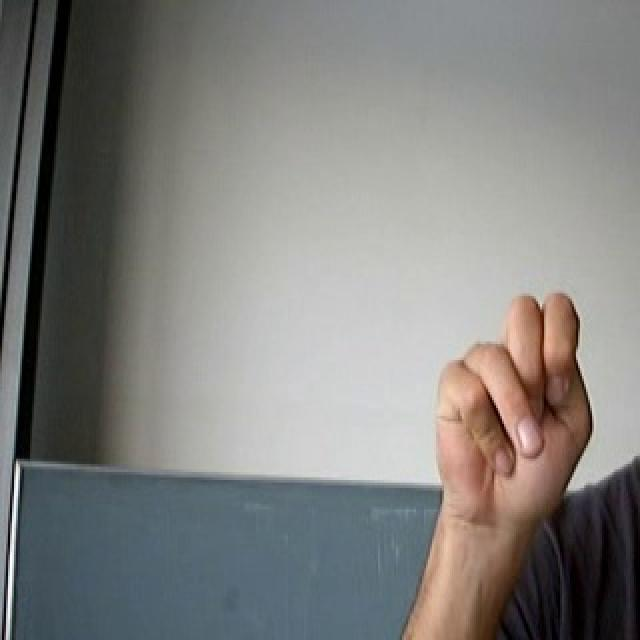N: (412, 275, 601, 541)
